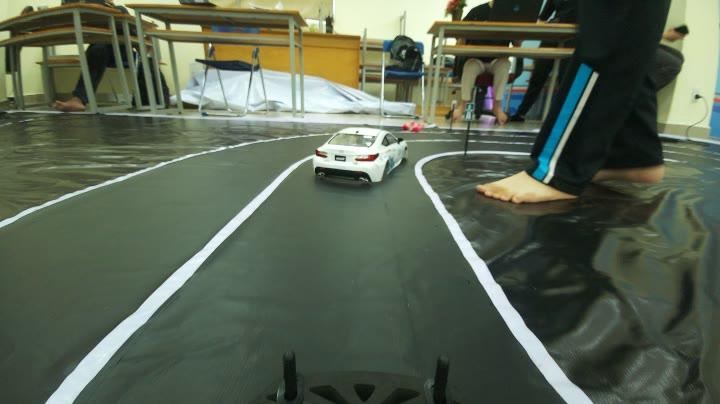car: (312, 113, 408, 188)
